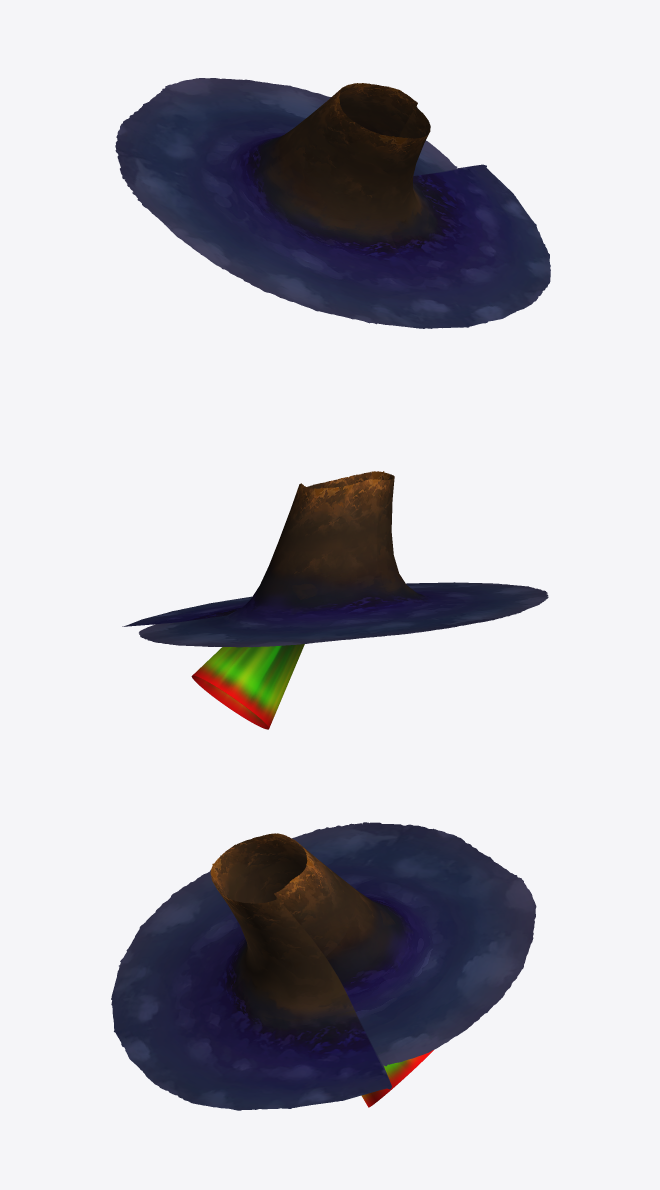
Rendered from ZhongliBG.fbx.
The picture shows the model from 3 angles, top to bottom: view 1: azimuth 30°, elevation 25°; view 2: azimuth 150°, elevation 25°; view 3: azimuth 270°, elevation 25°; orthographic projection. The views are drawn at different scales.
Visible parts, largest first — view 1: 00_CloudMeshBack; view 2: 00_CloudMeshBack, 00_LightRay; view 3: 00_CloudMeshBack, 00_LightRay.
Boxes of the visible parts, <box> form: 00_CloudMeshBack: <box>115,78,550,328</box>; 00_CloudMeshBack: <box>122,471,548,647</box>; 00_LightRay: <box>191,644,304,729</box>; 00_CloudMeshBack: <box>111,822,536,1110</box>; 00_LightRay: <box>361,1050,433,1107</box>.
Bounding box in the file's own units: 922 × 441 × 922.
